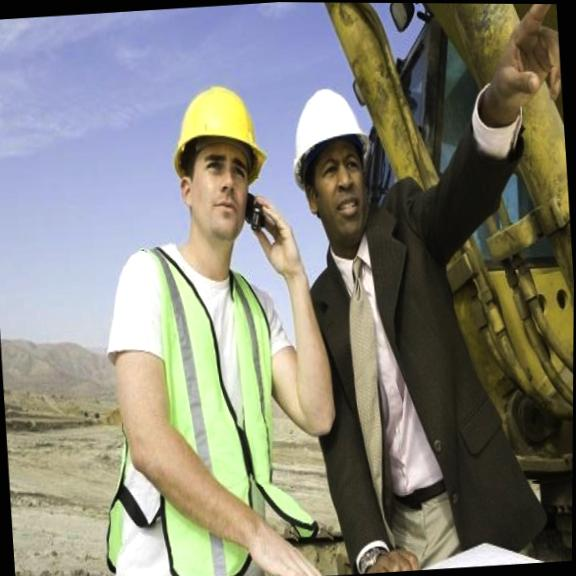no_safety_vest: (309, 167, 482, 552)
safety_vest: (101, 228, 313, 576)
